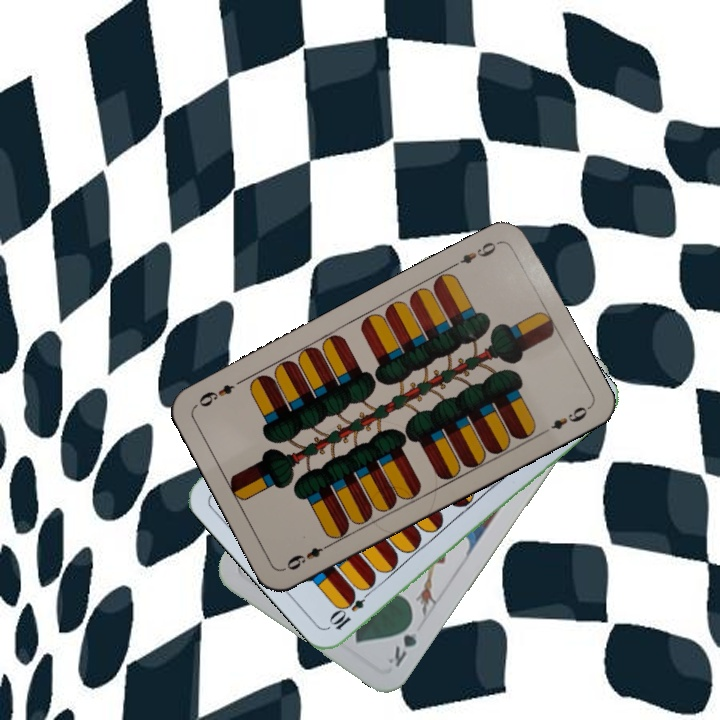E10: (326, 584, 375, 633)
E9: (280, 538, 335, 573), (448, 237, 503, 270)
GK: (384, 614, 420, 670)
